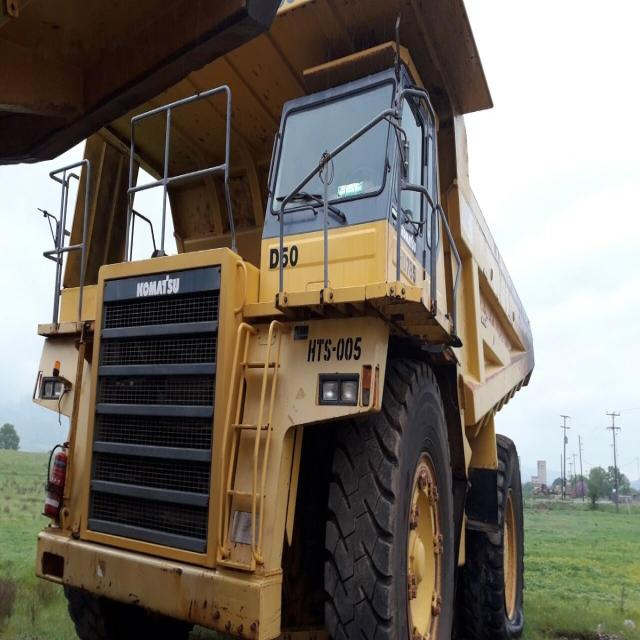dump_truck: (32, 2, 531, 637)
